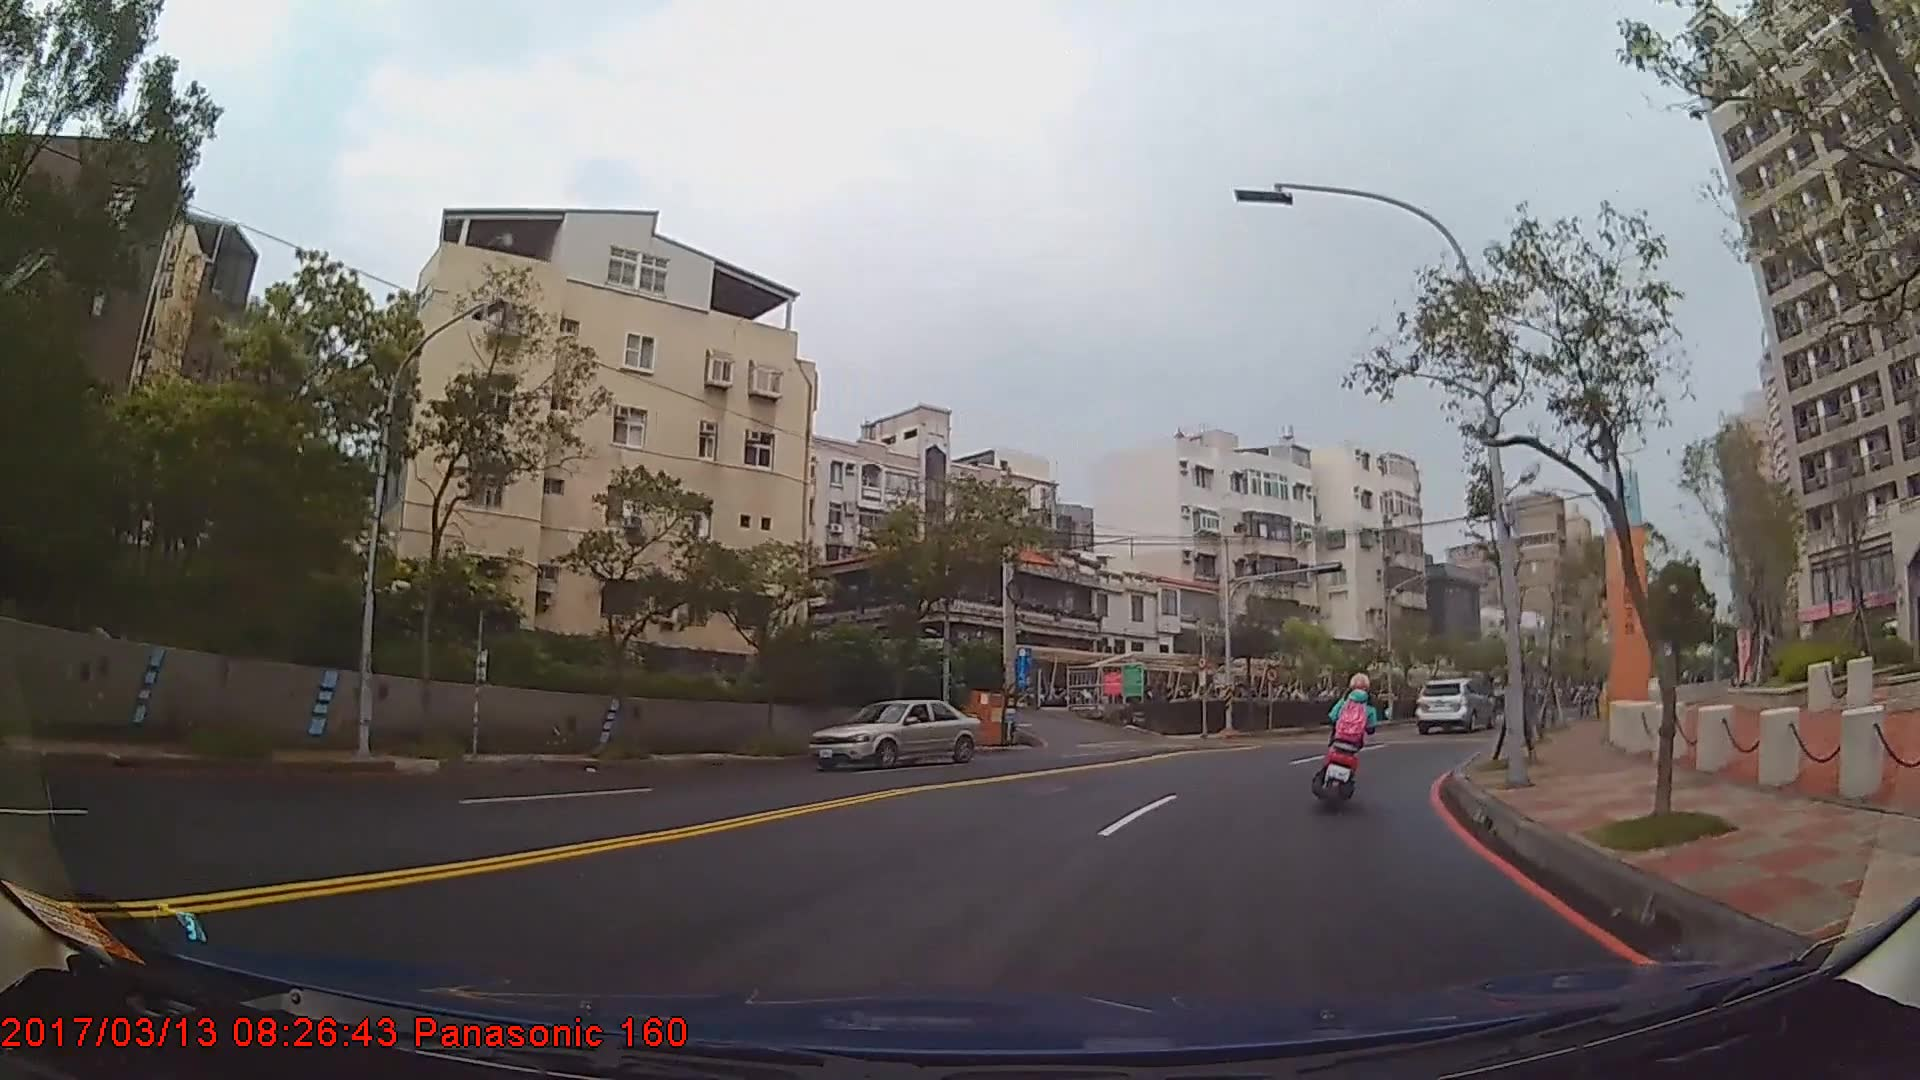rider: (1321, 673, 1381, 803)
vehicle: (804, 699, 983, 771), (1412, 677, 1495, 730)
